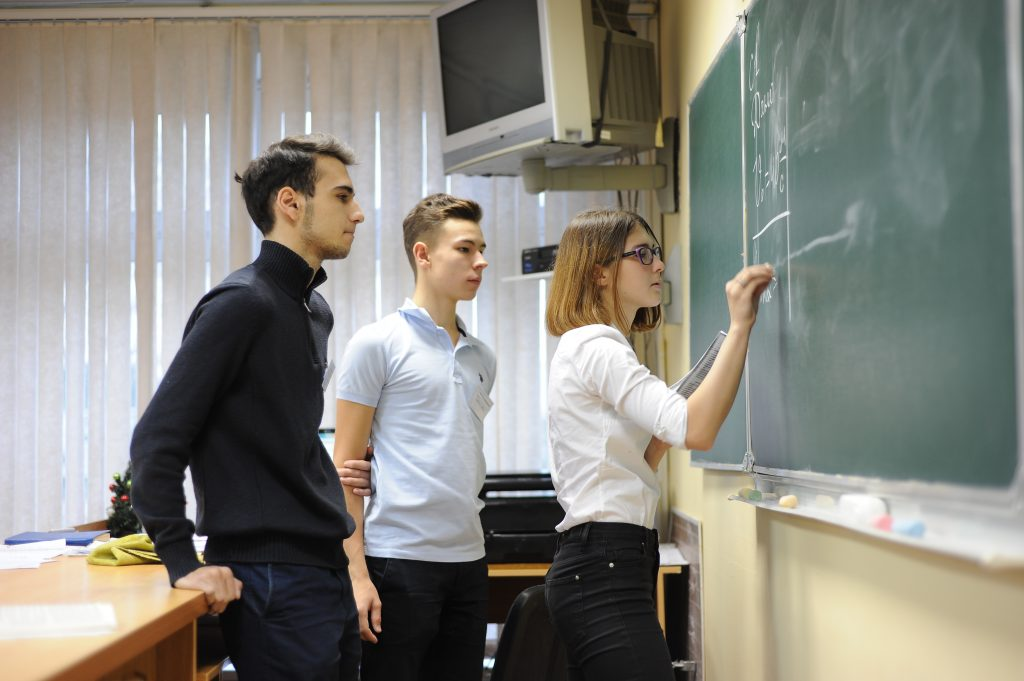students: (128, 135, 369, 679), (542, 206, 776, 675), (336, 192, 500, 675)
